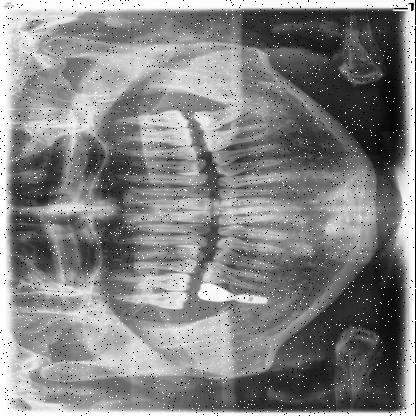Bicon: (226, 292, 269, 304)
